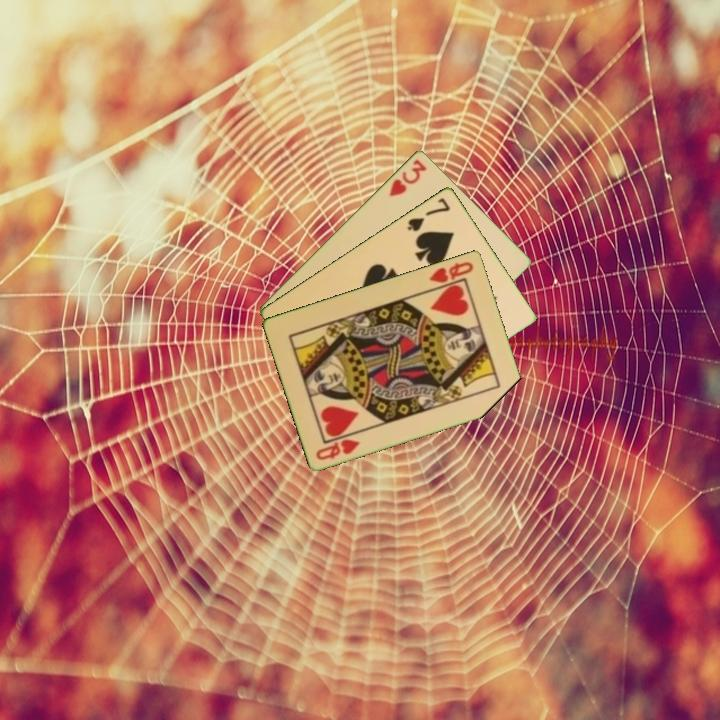3h: (386, 155, 429, 199)
7s: (403, 194, 453, 234)
Qh: (426, 257, 476, 292), (312, 435, 363, 463)
